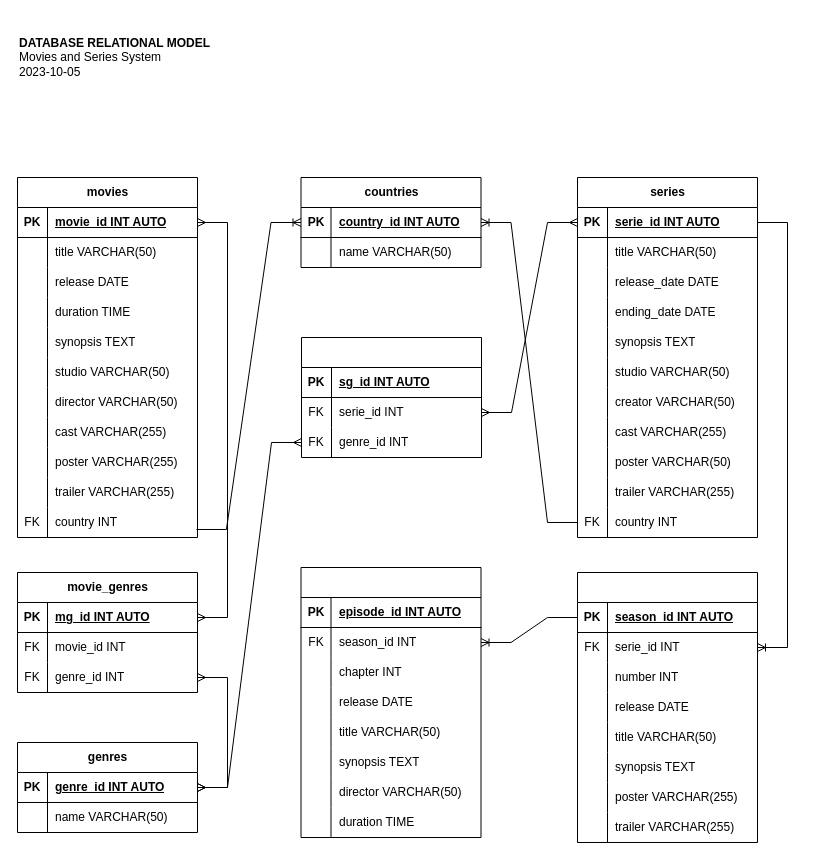
Image size: 813x860. Some labels were removed from this diagram. Each missing label, with the box of its shape:
episodes: (300, 566, 481, 838)
seasons: (576, 572, 758, 842)
serie_genres: (300, 336, 482, 458)
